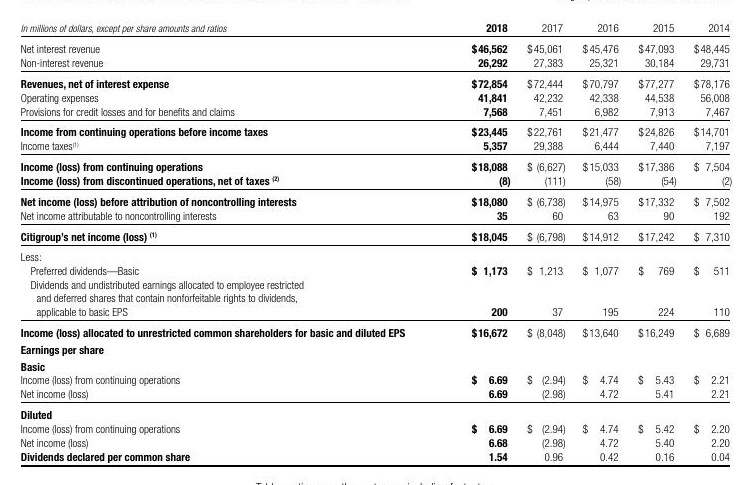table: (0, 0, 750, 485)
